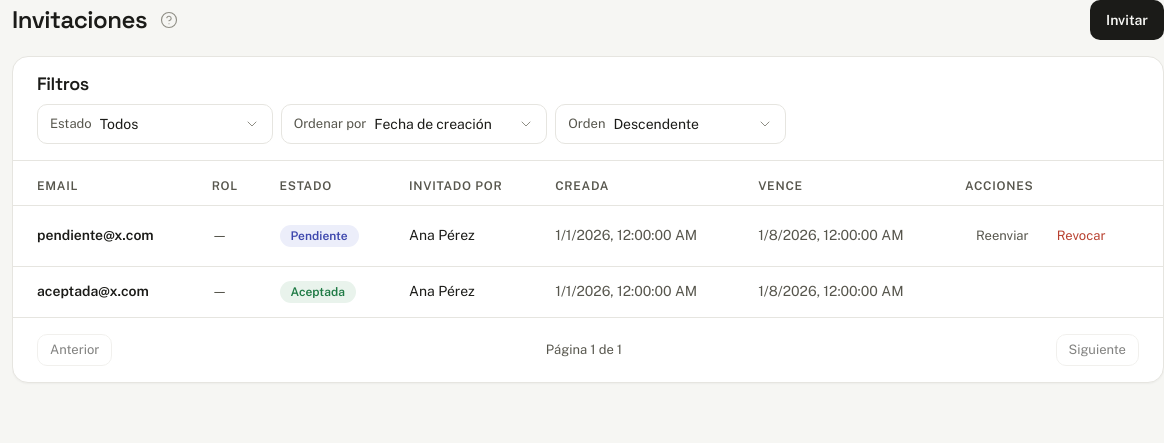
Test: InvitationListPage › Reenviar solo en las PENDING: manda el POST y avisa a quién salió
expect the text "pendiente@x.com" is shown: met, box [13,205,196,266]
expect the text "aceptada@x.com" does not show "Reenviar": met
Click the button "Reenviar": (1002, 236) [965,220,1040,252]
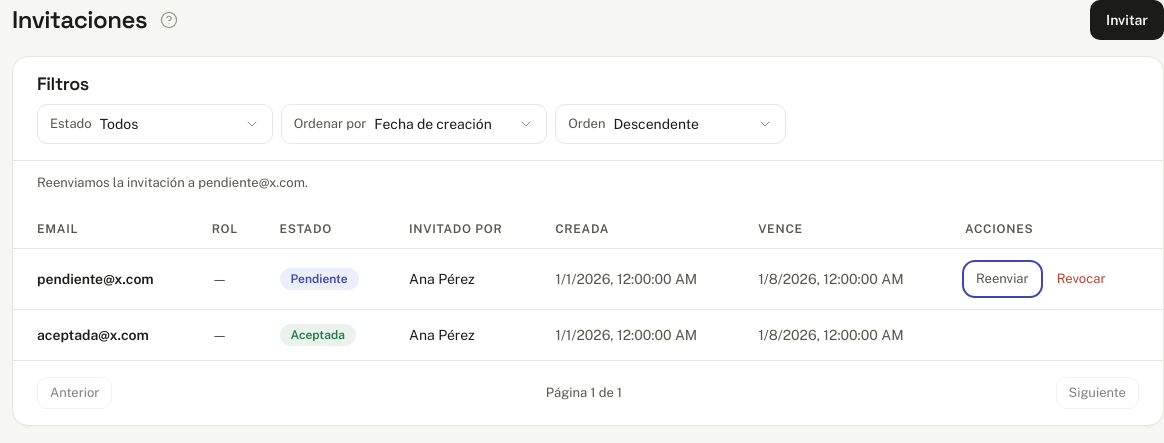
expect the message reads "Reenviamos la invitación a pendiente@x.com.": met, box [37,174,308,190]
